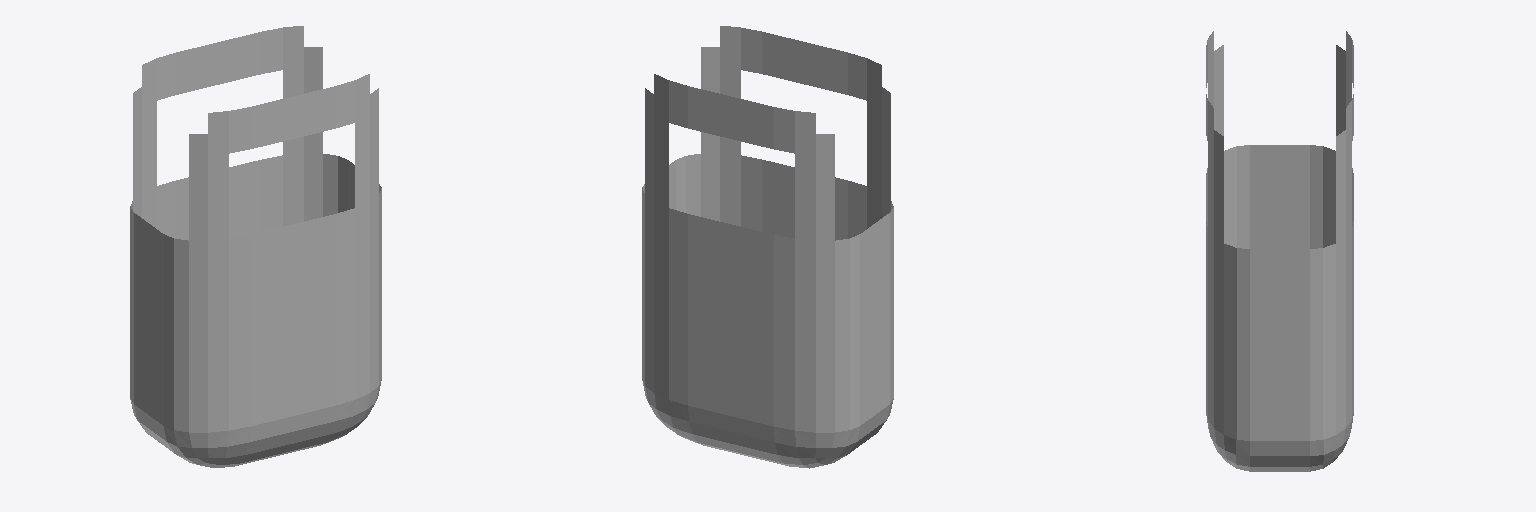
The model's file is bag2_29.obj.
3 renders of one model, left to right at view 1: azimuth 30°, elevation 25°; view 2: azimuth 150°, elevation 25°; view 3: azimuth 270°, elevation 25°, orthographic.
Parts seen in each view (by area): view 1: Cube-0-1.056_Cube.171; view 2: Cube-0-1.056_Cube.171; view 3: Cube-0-1.056_Cube.171.
Part boxes in pixels (x1,y1,x2,y2): Cube-0-1.056_Cube.171: (130, 26, 381, 467); Cube-0-1.056_Cube.171: (642, 26, 893, 468); Cube-0-1.056_Cube.171: (1206, 31, 1353, 471).
Bounding box in the file's own units: 2 × 3.33 × 1.2.